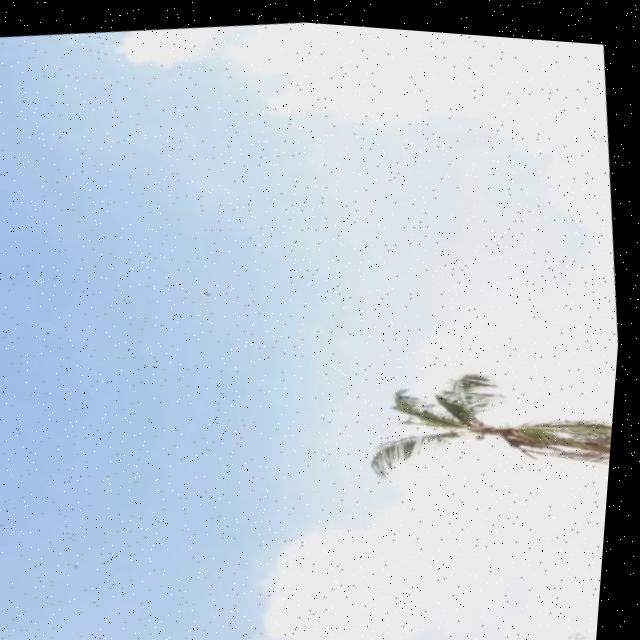drones: (151, 221, 267, 335)
